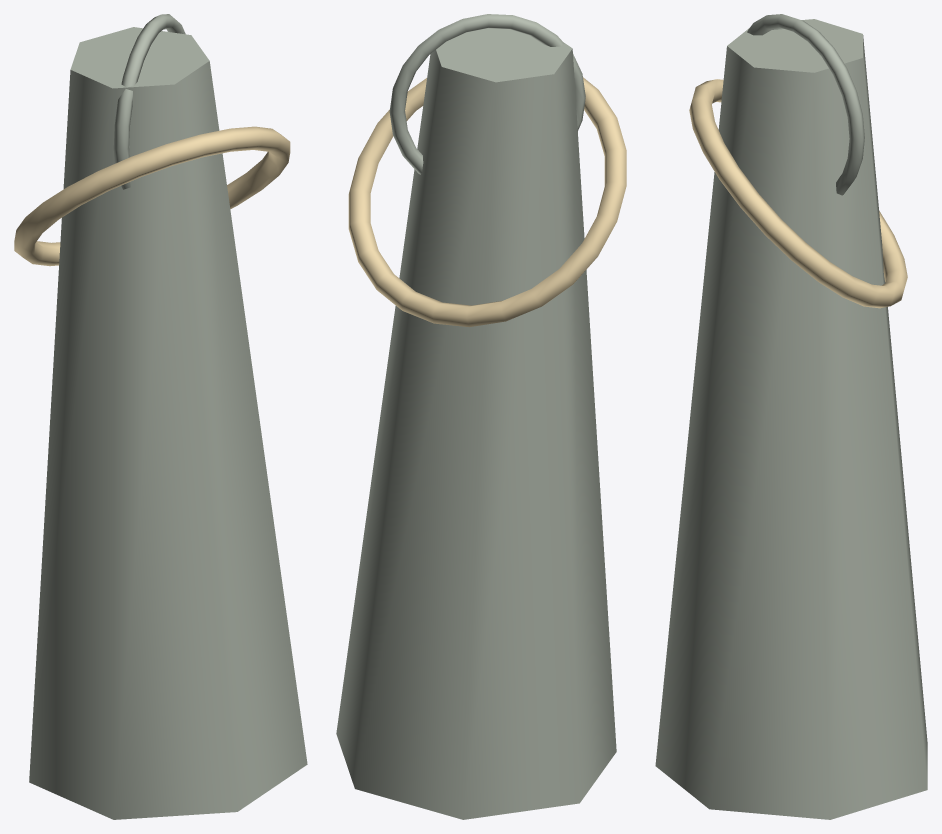
File: prop-ruin.glb
3 renders of one model, left to right at view 1: azimuth 30°, elevation 25°; view 2: azimuth 150°, elevation 25°; view 3: azimuth 270°, elevation 25°, orthographic.
Visible parts, largest first — view 1: ruin; view 2: ruin; view 3: ruin.
Boxes of the visible parts, x1,y1,x2,y2 form: ruin: [14, 14, 307, 819]; ruin: [336, 14, 626, 819]; ruin: [655, 14, 927, 819].
Size of the model in its own units: 4.66 by 12.64 by 4.18.
